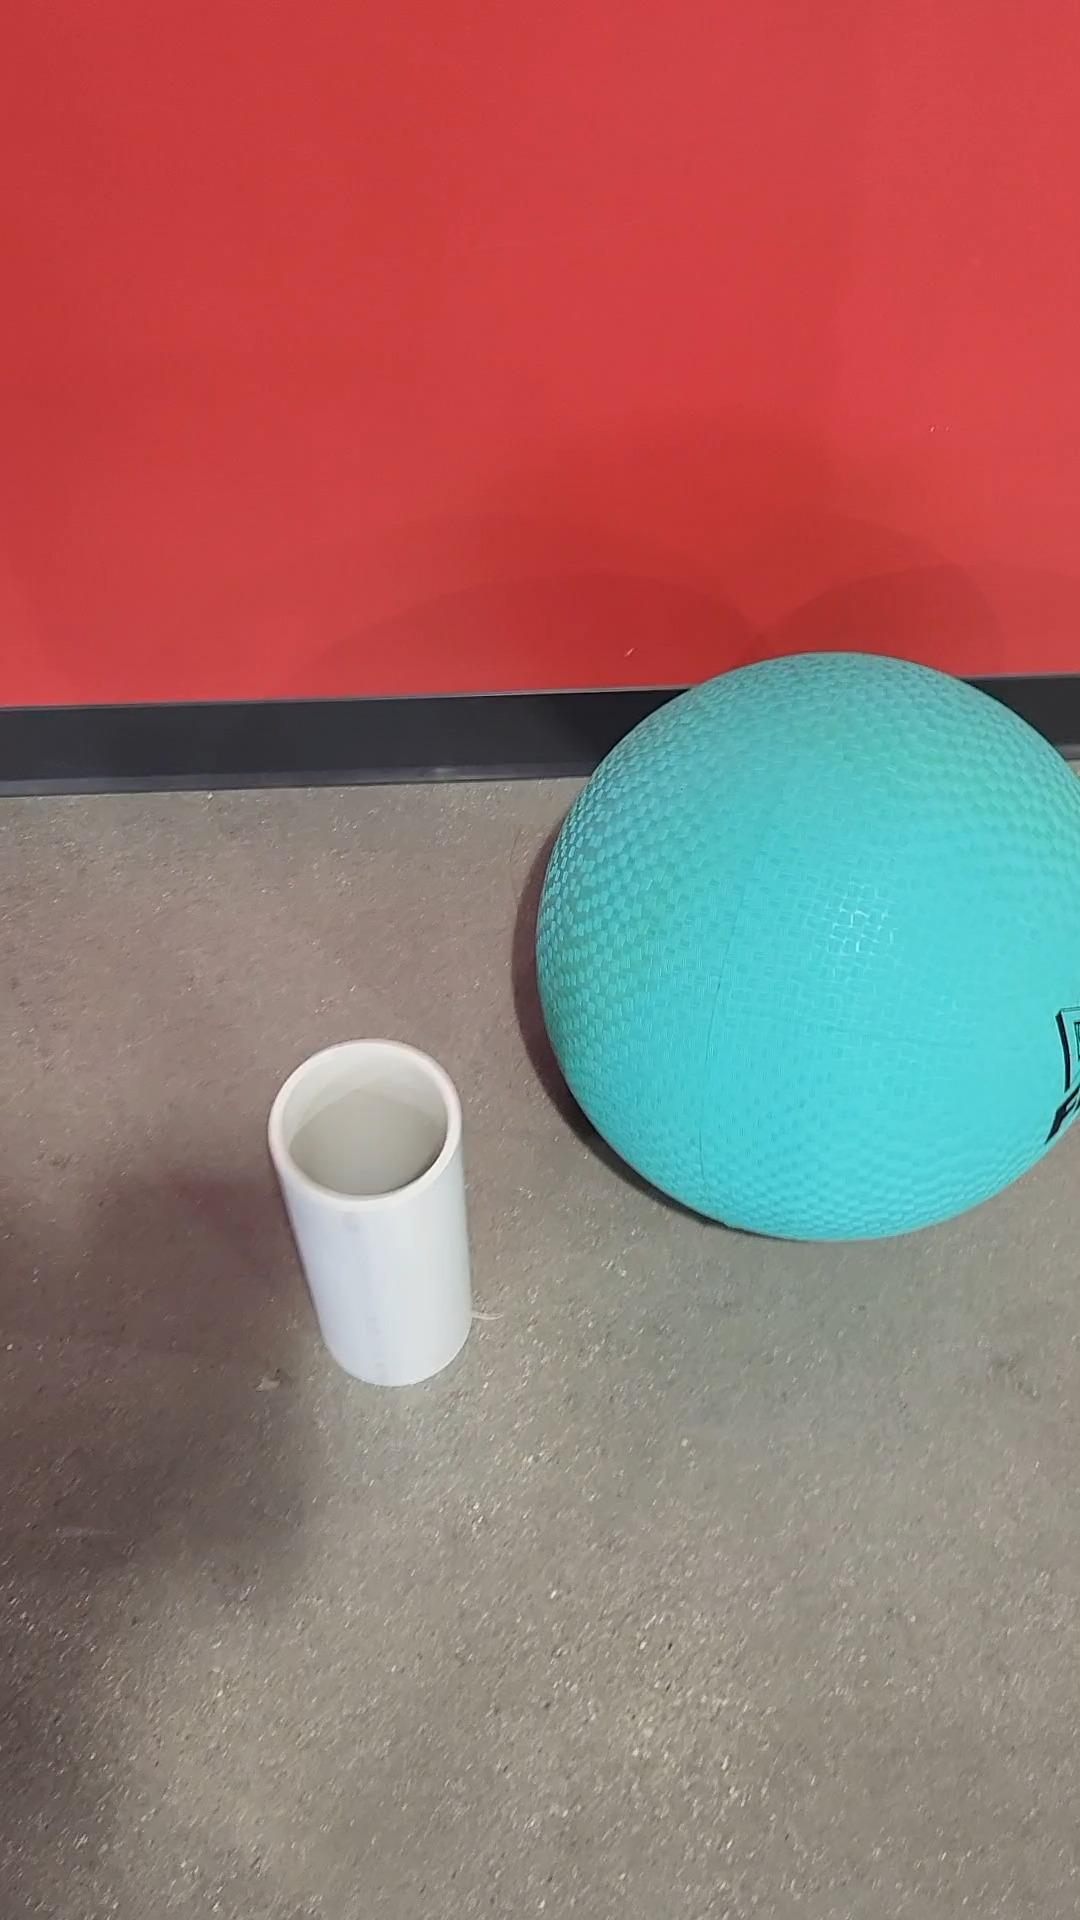algae: (531, 646, 1079, 1254)
coral: (270, 1035, 479, 1390)
